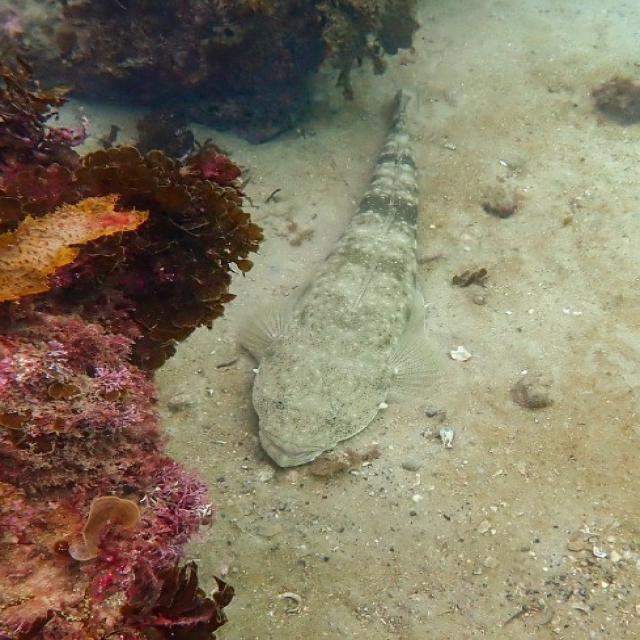Flathead: (233, 82, 444, 478)
